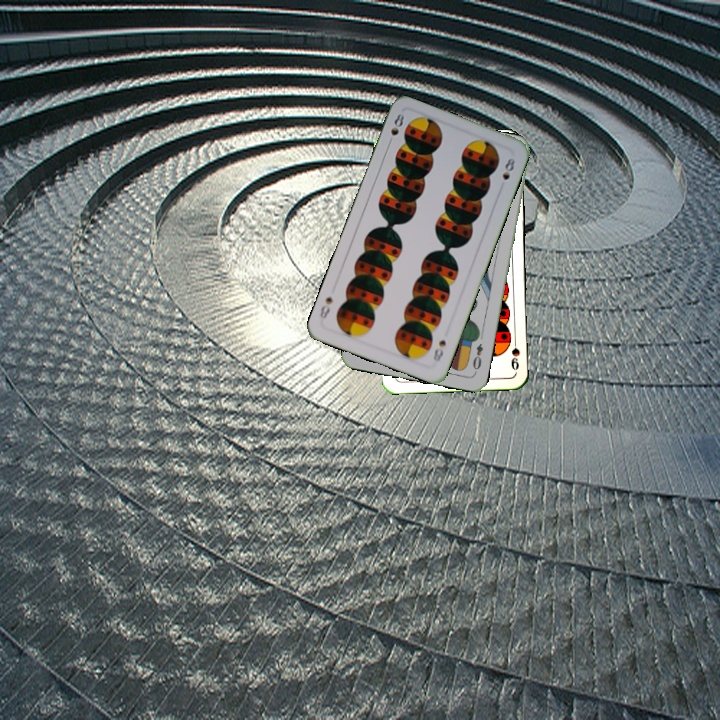EO: (469, 340, 486, 376)
S8: (386, 110, 407, 138), (429, 336, 449, 365)
S9: (507, 333, 522, 373)
